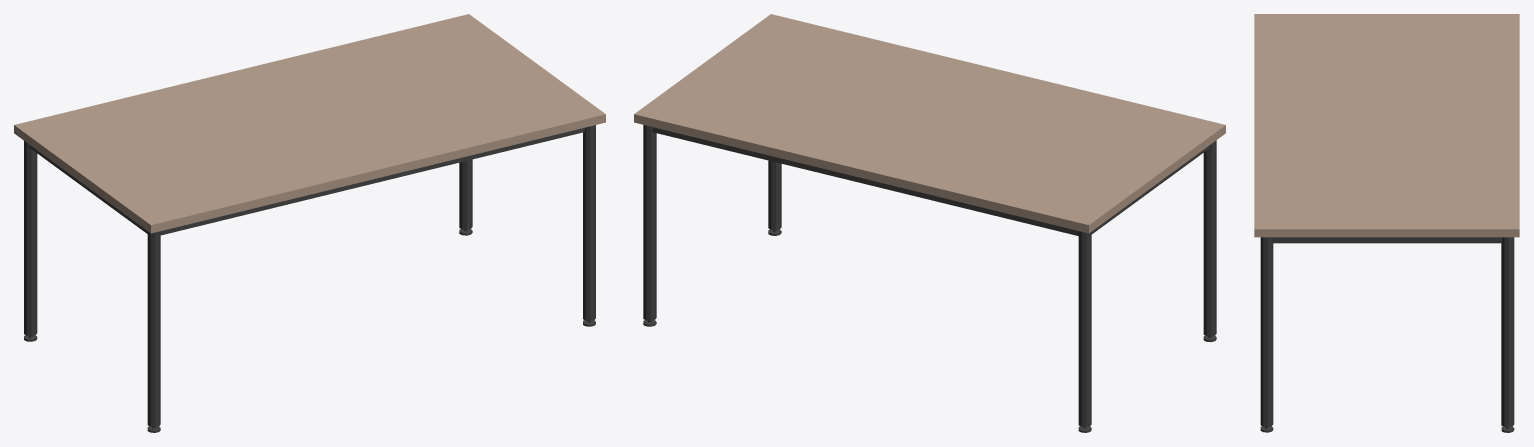
File: Table.fbx
3 views of the same model, side by side, from view 1: azimuth 30°, elevation 25°; view 2: azimuth 150°, elevation 25°; view 3: azimuth 270°, elevation 25° (orthographic). The views are drawn at different scales.
Parts seen in each view (by area): view 1: Cube; view 2: Cube; view 3: Cube.
Boxes of the visible parts, left/top/right/bottom form: Cube: left=14, top=14, right=605, bottom=432; Cube: left=634, top=14, right=1225, bottom=432; Cube: left=1254, top=14, right=1519, bottom=432.
Bounding box in the file's own units: 289 × 129 × 151.
